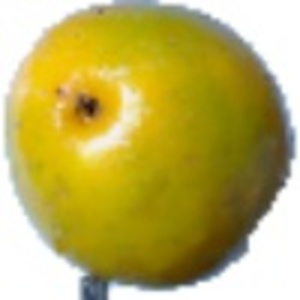maracujá: (2, 1, 299, 300)
